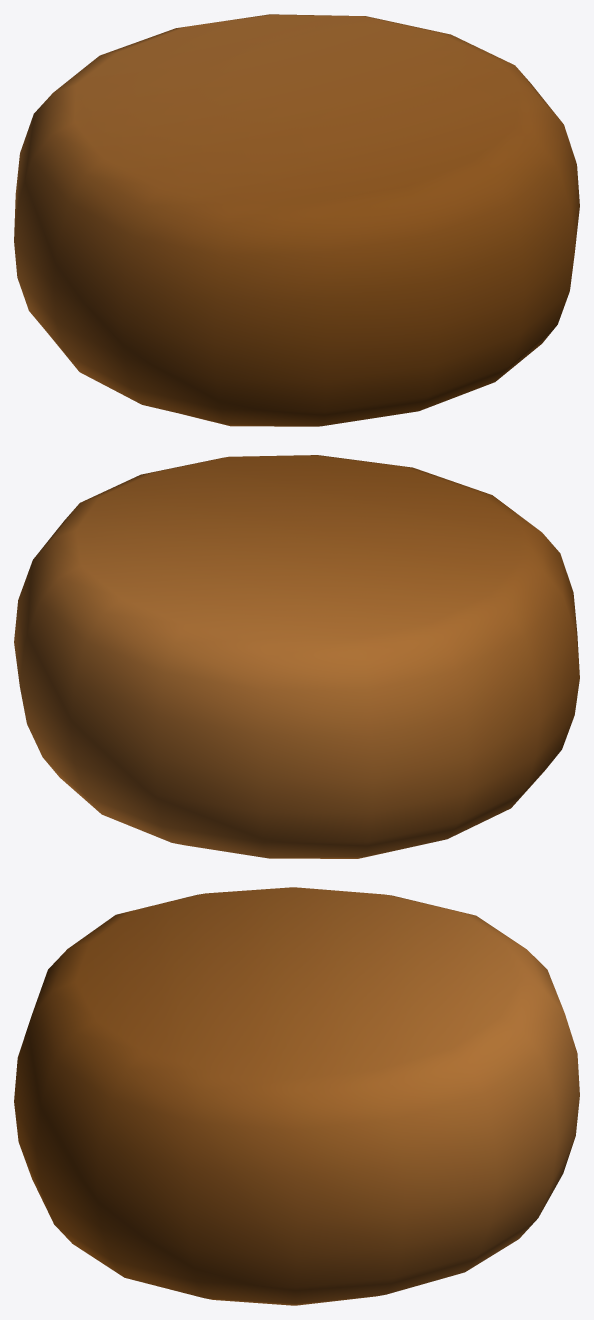
File: Bread_2 Small.glb
The picture shows the model from 3 angles, top to bottom: view 1: azimuth 30°, elevation 25°; view 2: azimuth 150°, elevation 25°; view 3: azimuth 270°, elevation 25°; orthographic projection. The views are drawn at different scales.
Parts seen in each view (by area): view 1: Bread_2 Small; view 2: Bread_2 Small; view 3: Bread_2 Small.
Part boxes in pixels (x1,y1,x2,y2): Bread_2 Small: [14, 14, 579, 426]; Bread_2 Small: [14, 455, 579, 858]; Bread_2 Small: [14, 887, 579, 1305].
Size of the model in its own units: 0.1436 by 0.0633 by 0.1407.
Materials: 1 (1 with a texture image).
